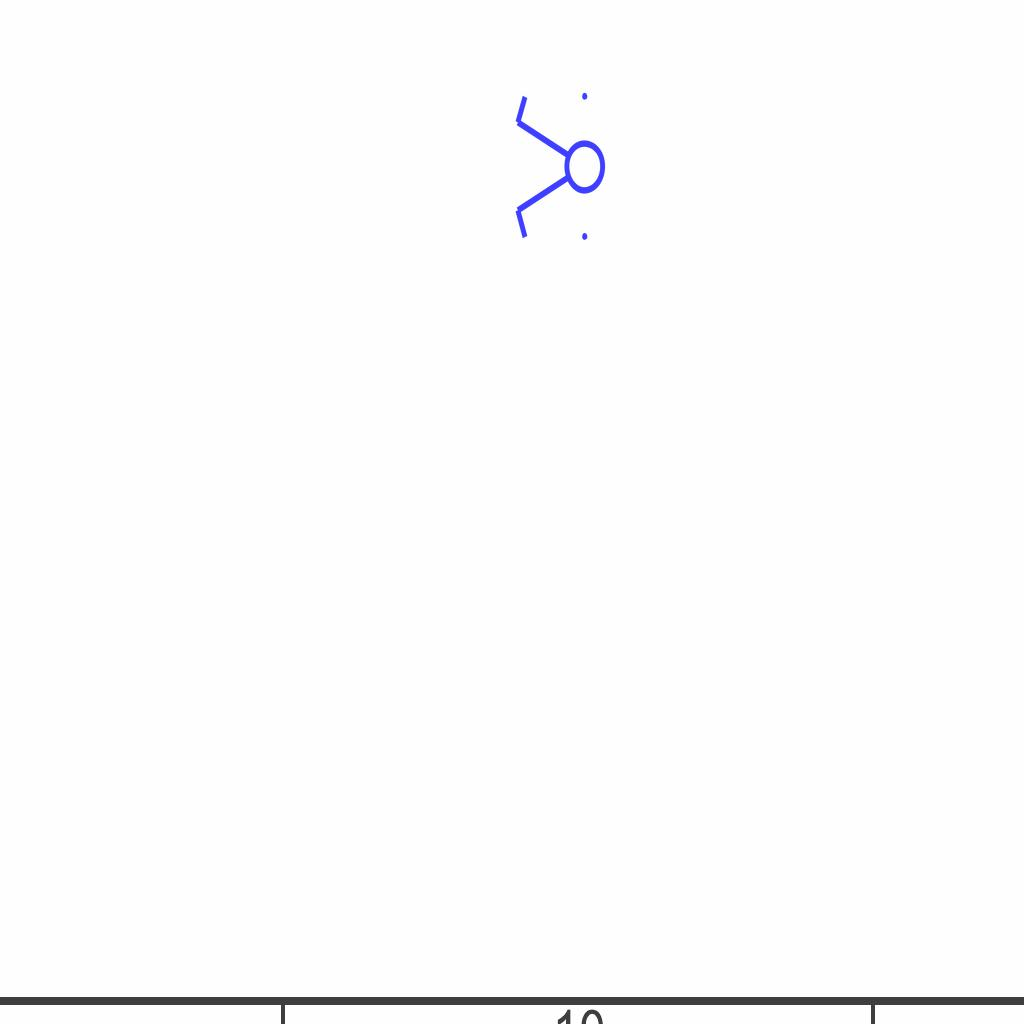Serienschalter: (511, 84, 607, 252)
